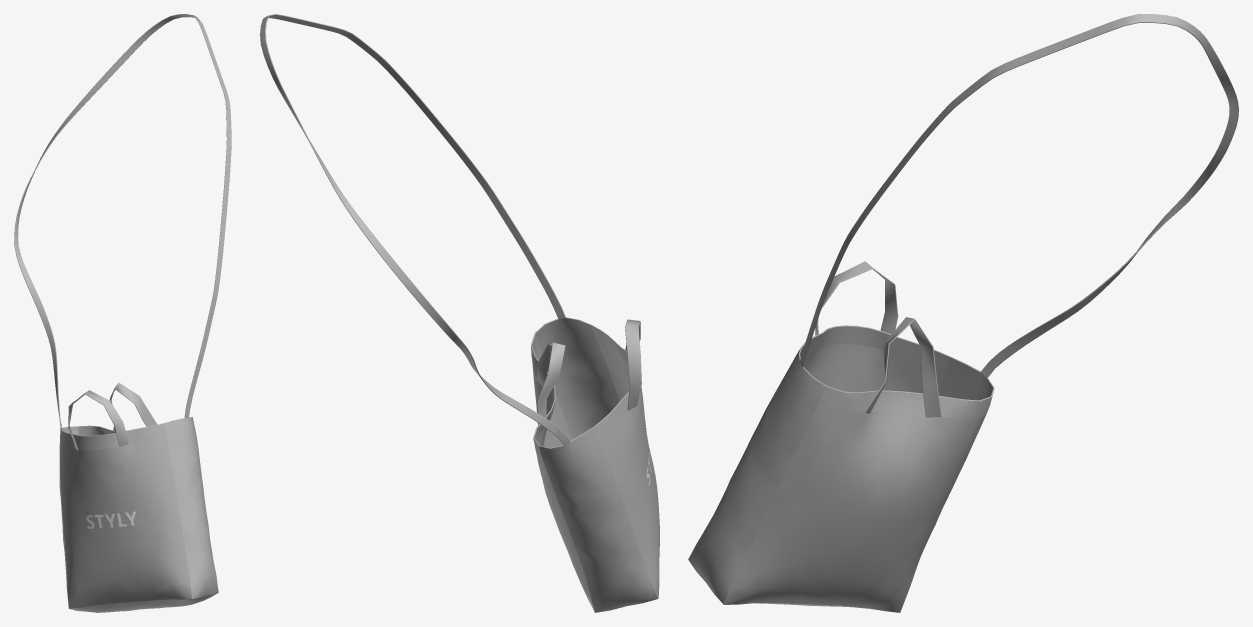
File: 003a-f_LongSleeveTshirt+LongSkirt_Bag.obj
3 renders of one model, left to right at view 1: azimuth 30°, elevation 25°; view 2: azimuth 150°, elevation 25°; view 3: azimuth 270°, elevation 25°, orthographic. The views are drawn at different scales.
Bounding box in the file's own units: 0.1886 × 0.3971 × 0.2717.
